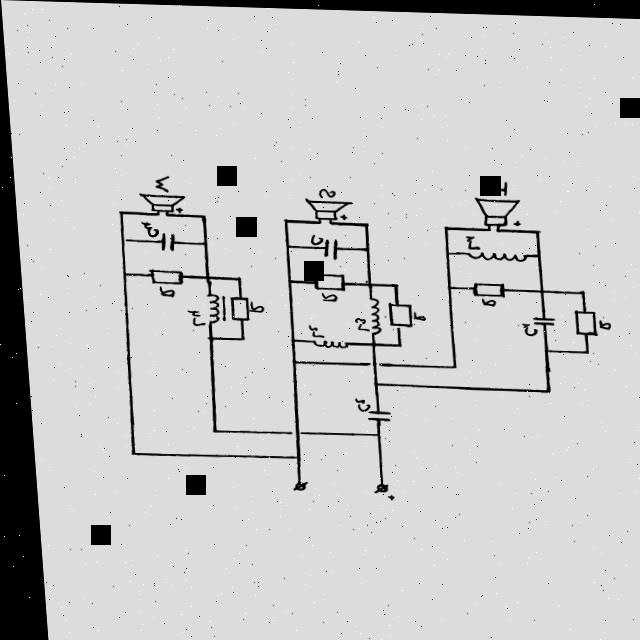capacitor: (318, 237, 336, 258), (156, 232, 172, 251), (360, 409, 385, 420), (526, 313, 551, 323)
crossover: (360, 357, 378, 368), (280, 427, 298, 437)
inductor: (460, 247, 524, 259), (360, 294, 379, 334), (200, 291, 222, 324), (306, 337, 343, 348)
junction: (276, 215, 290, 225), (282, 333, 296, 343), (363, 378, 376, 388), (385, 279, 398, 289), (358, 243, 371, 253), (357, 220, 370, 230), (279, 275, 292, 285), (387, 338, 401, 347), (228, 274, 240, 284), (195, 238, 207, 248), (440, 360, 453, 369), (366, 428, 379, 437), (357, 278, 370, 287), (363, 337, 376, 346), (279, 240, 292, 249), (285, 356, 298, 365), (114, 235, 127, 244), (113, 268, 126, 277), (199, 333, 212, 342), (231, 333, 242, 343), (198, 273, 209, 283), (571, 285, 583, 294), (536, 383, 548, 392), (531, 285, 543, 294), (529, 248, 541, 257), (192, 213, 204, 222), (112, 208, 124, 217), (204, 426, 216, 435), (118, 448, 131, 456), (576, 345, 587, 354), (535, 343, 546, 352), (441, 281, 452, 290), (528, 226, 539, 234), (437, 222, 448, 230), (439, 247, 450, 255), (284, 453, 295, 459)
resistor: (567, 305, 594, 334), (381, 300, 408, 326), (308, 271, 342, 290), (143, 268, 180, 285), (466, 280, 502, 295), (223, 295, 244, 320)
terminal: (362, 478, 382, 493), (284, 479, 302, 490)
text: (181, 307, 201, 327), (487, 178, 506, 195), (136, 221, 155, 238), (150, 174, 167, 192), (301, 323, 320, 338), (347, 315, 364, 330), (347, 396, 364, 411), (460, 233, 476, 248), (516, 320, 533, 334), (314, 290, 333, 301), (153, 285, 170, 297), (314, 186, 332, 197), (304, 232, 319, 244), (592, 315, 606, 327), (407, 309, 422, 320), (476, 296, 492, 304)
